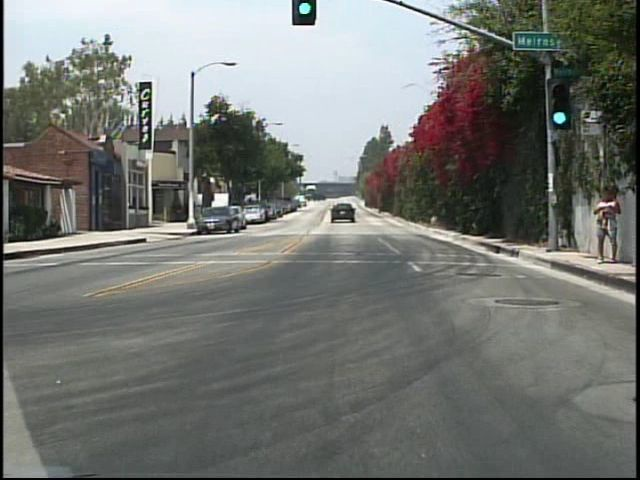person: (591, 186, 626, 266)
